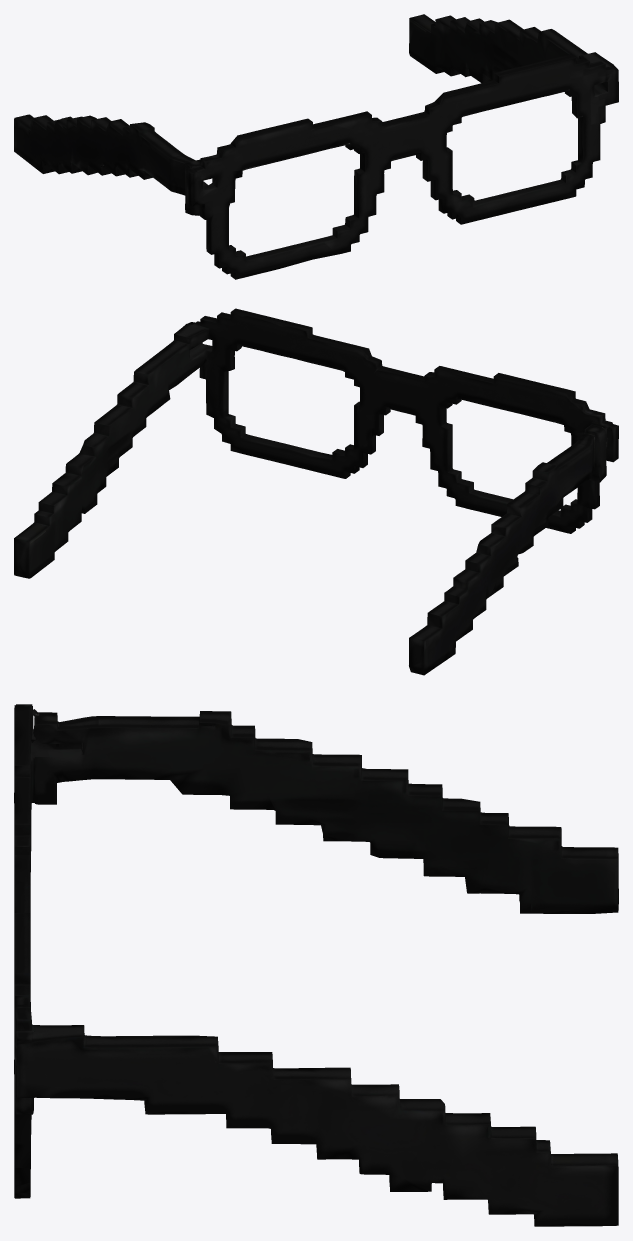
File: glasses.glb
3 renders of one model, top to bottom at view 1: azimuth 30°, elevation 25°; view 2: azimuth 150°, elevation 25°; view 3: azimuth 270°, elevation 25°, orthographic. The views are drawn at different scales.
Parts seen in each view (by area): view 1: tripo_node_d4d78cab-f6ad-4c7b-b996-4e9a441acbf2; view 2: tripo_node_d4d78cab-f6ad-4c7b-b996-4e9a441acbf2; view 3: tripo_node_d4d78cab-f6ad-4c7b-b996-4e9a441acbf2.
Boxes of the visible parts, x1,y1,x2,y2 form: tripo_node_d4d78cab-f6ad-4c7b-b996-4e9a441acbf2: (14,14,618,279); tripo_node_d4d78cab-f6ad-4c7b-b996-4e9a441acbf2: (14,308,618,675); tripo_node_d4d78cab-f6ad-4c7b-b996-4e9a441acbf2: (14,704,618,1226).
Size of the model in its own units: 0.9784 by 0.3048 by 0.7408.
Materials: 1 (1 with a texture image).
